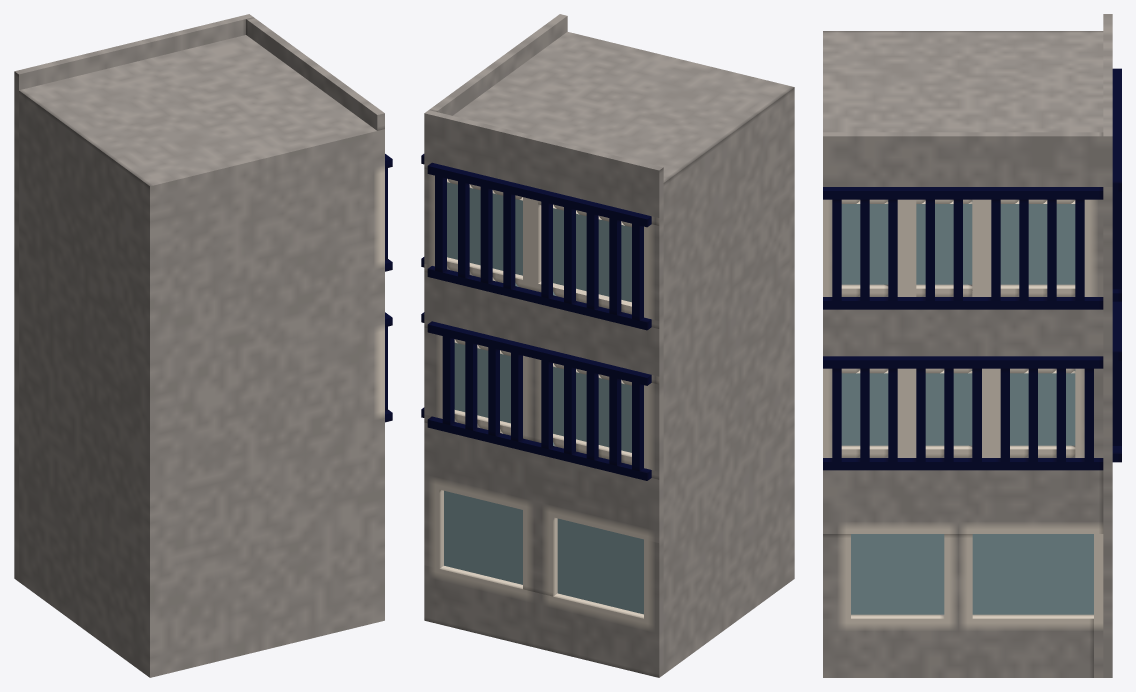
File: sierociniec_bok_okna02.dae
The picture shows the model from 3 angles, left to right: view 1: azimuth 30°, elevation 25°; view 2: azimuth 150°, elevation 25°; view 3: azimuth 270°, elevation 25°; orthographic projection. The views are drawn at different scales.
Visible parts, largest first — view 1: Content; view 2: Content; view 3: Content.
Part boxes in pixels (left/top/right/bottom): Content: left=14, top=14, right=392, bottom=677; Content: left=421, top=14, right=794, bottom=677; Content: left=823, top=14, right=1121, bottom=677.
Size of the model in its own units: 32 by 64 by 32.
Materials: 1 (1 with a texture image).
